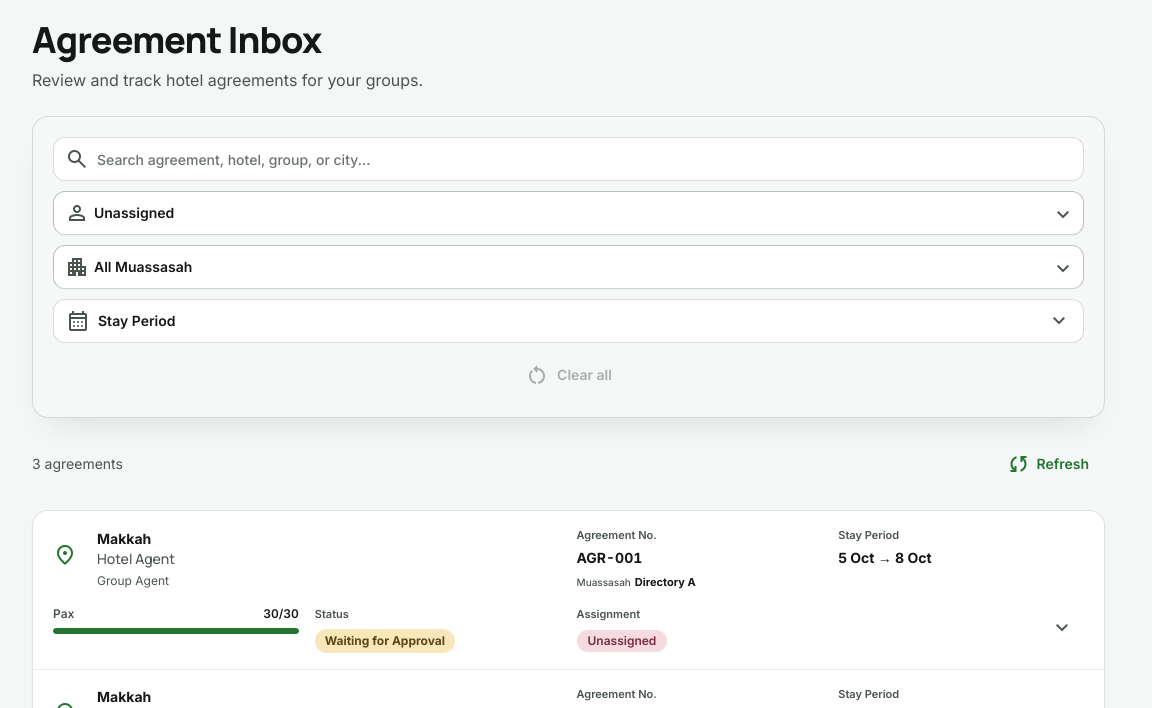
Agent Agreement Inbox › filters scoped Muassasah choices and agreements without a selection
The image size is (1152, 708).
expect the heading "Hotel Agent" is shown: met, box [97, 548, 175, 568]
Click the button with aria-label "Filter Muassasah": (143, 266) [53, 245, 1084, 289]
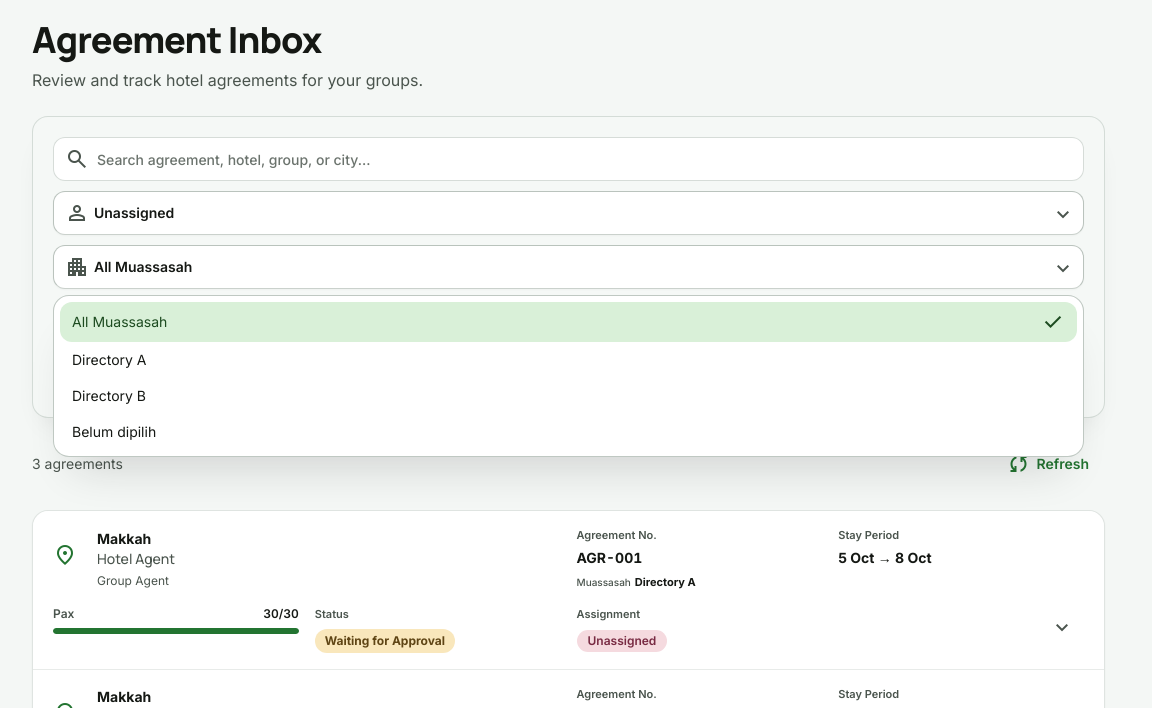
Click the option "Directory B": (109, 396) [60, 378, 1077, 414]
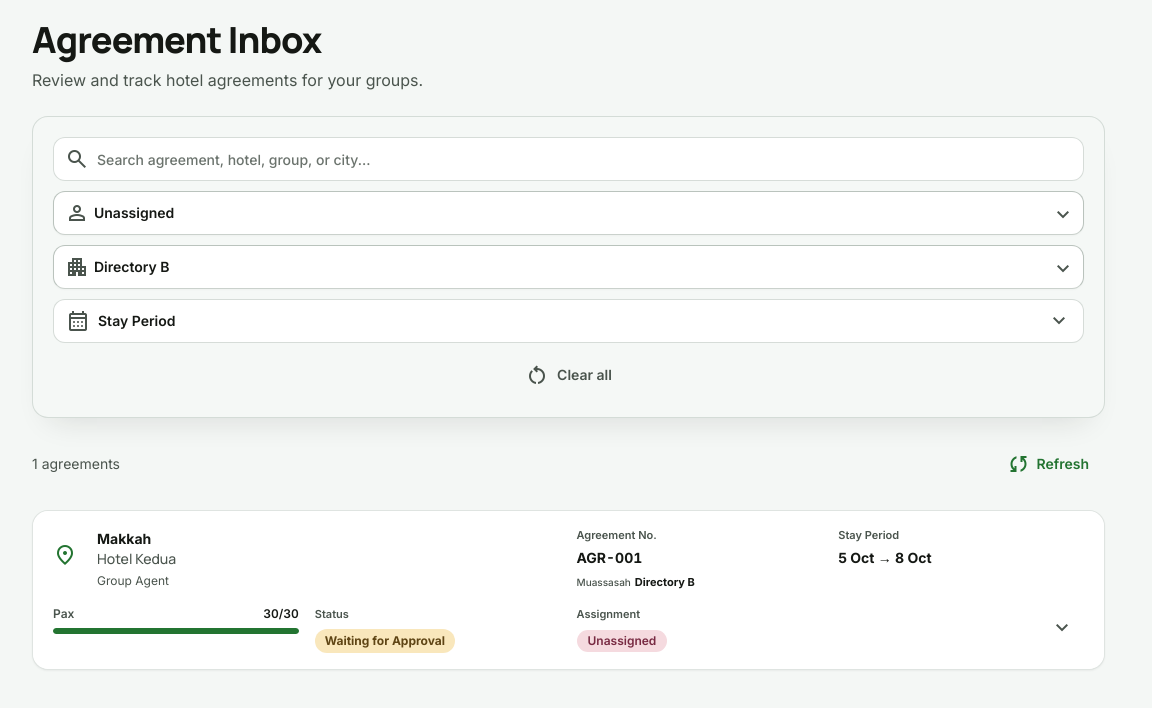
expect the heading "Hotel Kedua" is shown: met, box [97, 548, 176, 568]
expect the heading "Hotel Agent" is gone: met
Click the button with aria-label "Filter Muassasah": (132, 266) [53, 245, 1084, 289]
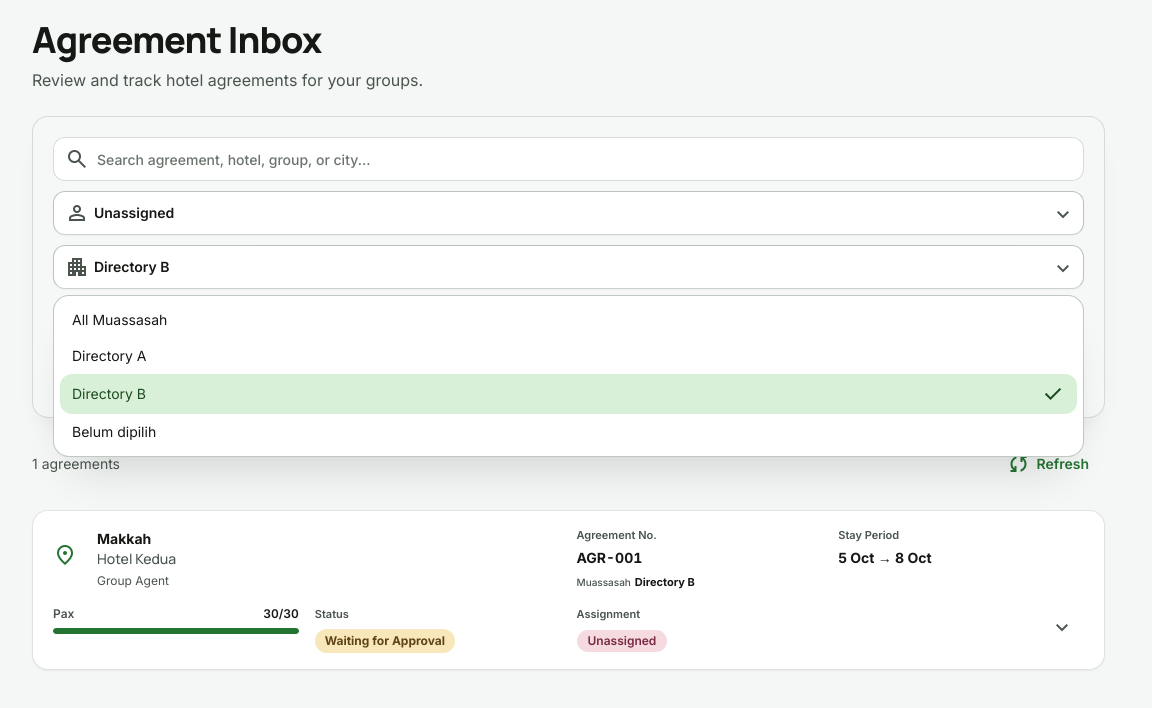
Click the option "Belum dipilih": (114, 432) [60, 414, 1077, 450]
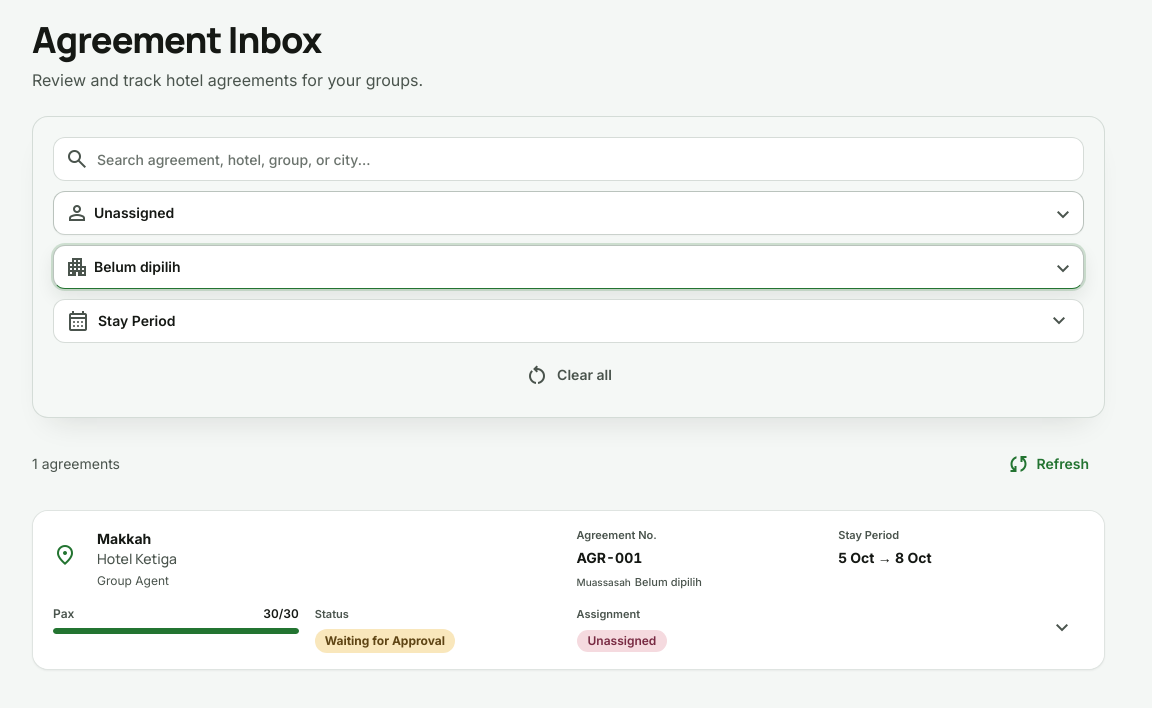
expect the heading "Hotel Ketiga" is shown: met, box [97, 548, 177, 568]
expect the heading "Hotel Kedua" is gone: met
